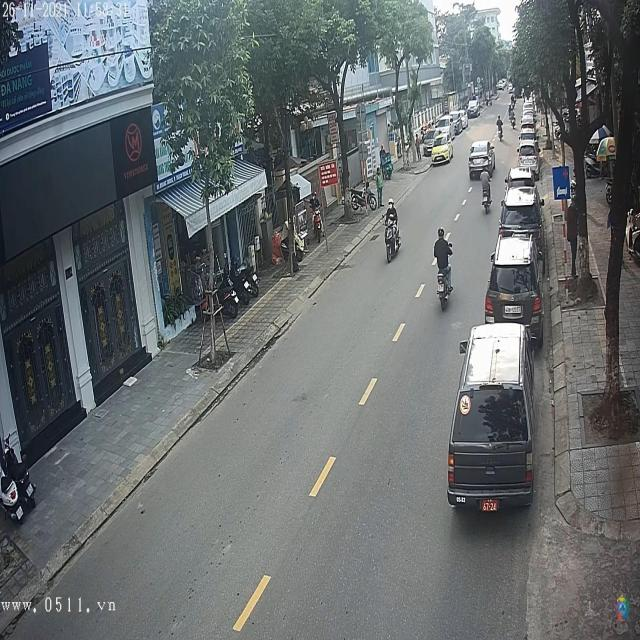car: (450, 324, 535, 510), (484, 250, 544, 334), (499, 188, 544, 237), (468, 142, 494, 174), (507, 167, 536, 189), (468, 99, 481, 117)
motorcycle: (436, 267, 455, 307), (386, 220, 402, 267)
